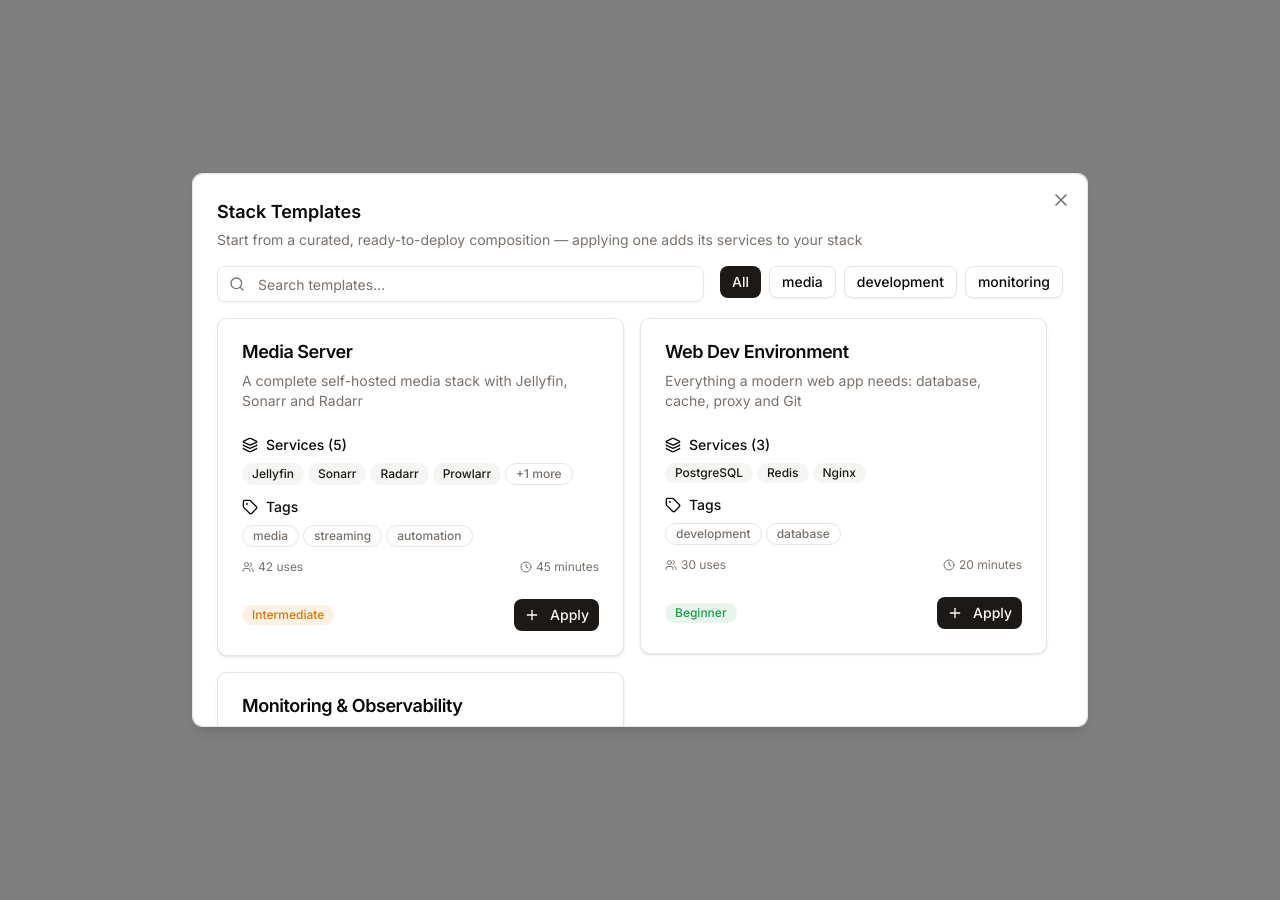
StackTemplateModal › Apply › shows a loading state and disables apply while resolving
What coordinates should you click on to do the following:
click the button "Apply" in the row of "intermediate"
I would click on:
 (557, 615)
Its box is left=514, top=599, right=599, bottom=631.
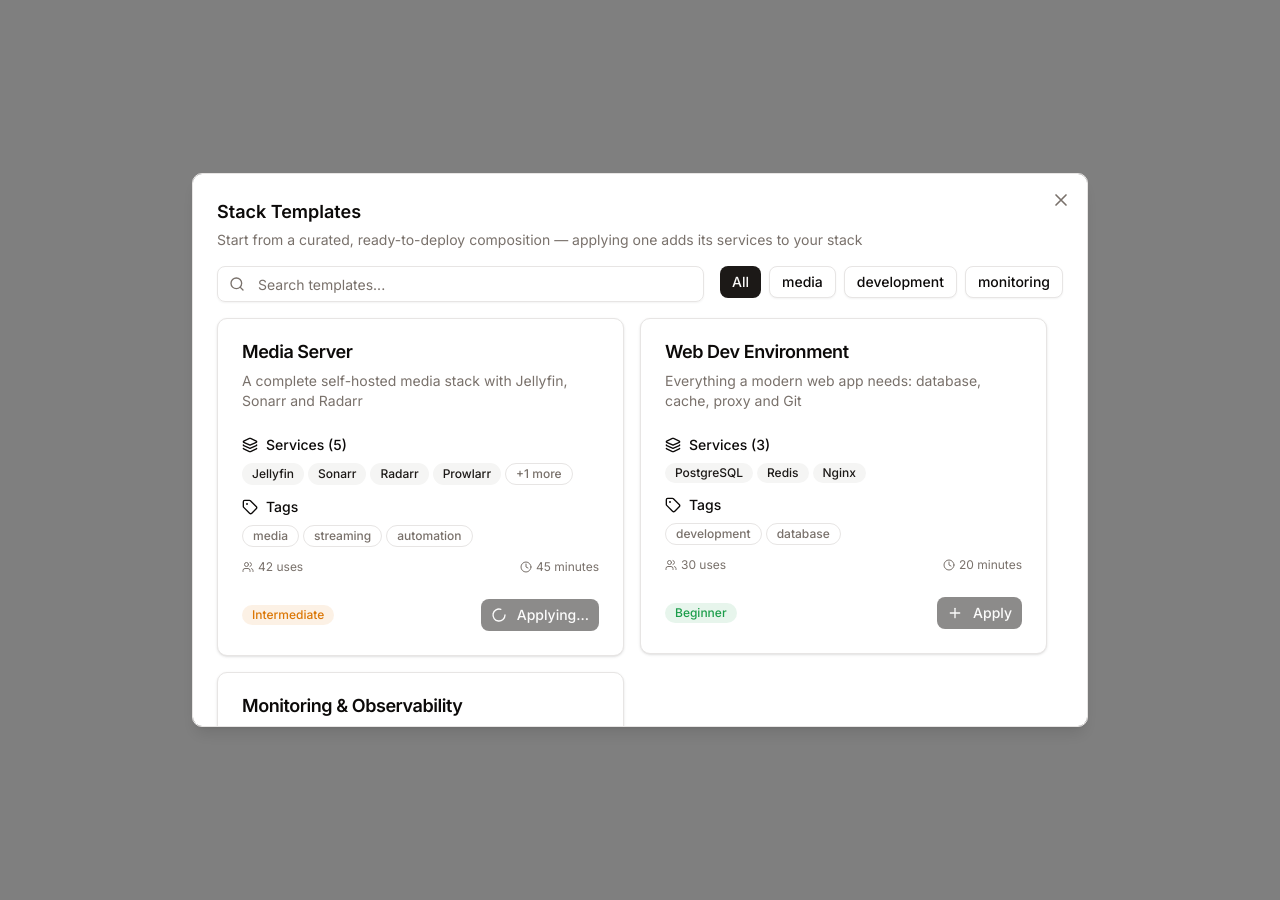
Check: the button "Applying..." is disabled, box left=481, top=599, right=599, bottom=631
